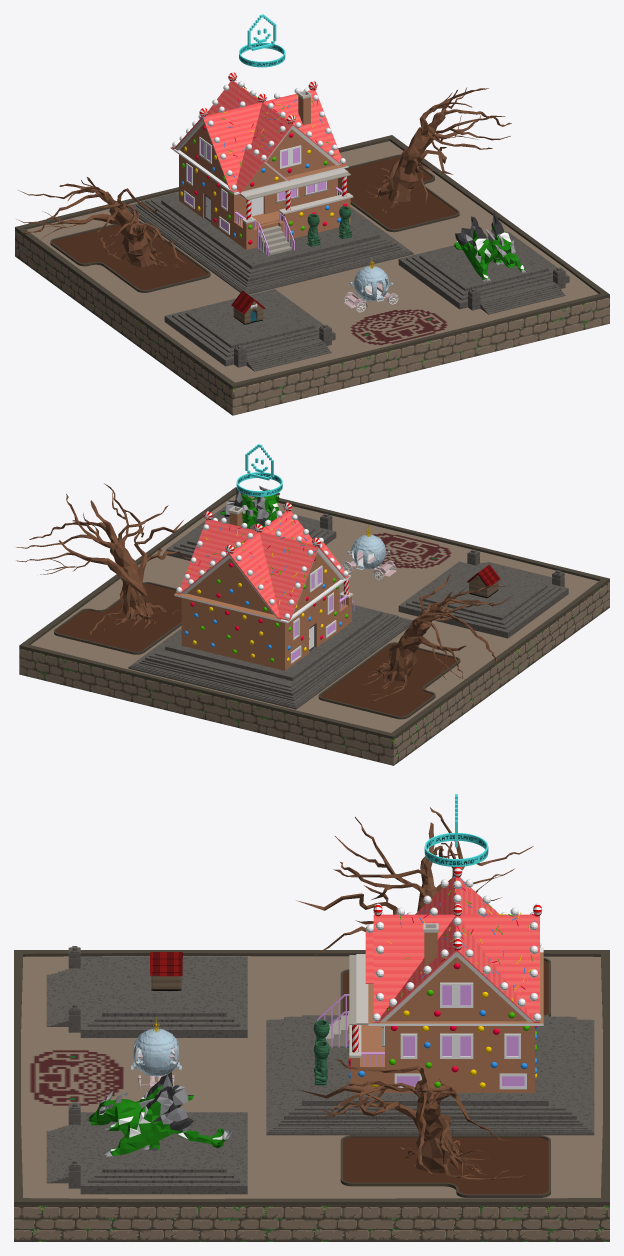
The picture shows the model from 3 angles, top to bottom: view 1: azimuth 30°, elevation 25°; view 2: azimuth 150°, elevation 25°; view 3: azimuth 270°, elevation 25°; orthographic projection. The views are drawn at different scales.
Visible parts, largest first — view 1: Cube.011, Cube.1203, ANIMAL_DRAGON, VEHICLES_FANTASY_CARRIAGE, TYPE_PREMIUM, OBJRANDOM_DOGHOUSE; view 2: Cube.011, Cube.1203, VEHICLES_FANTASY_CARRIAGE, ANIMAL_DRAGON, TYPE_PREMIUM, OBJRANDOM_DOGHOUSE; view 3: Cube.011, Cube.1203, ANIMAL_DRAGON, VEHICLES_FANTASY_CARRIAGE, OBJRANDOM_DOGHOUSE, TYPE_PREMIUM.
Boxes of the visible parts, x1=… form: Cube.011: x1=15, y1=87, x2=609, y2=415; Cube.1203: x1=170, y1=72, x2=353, y2=256; ANIMAL_DRAGON: x1=454, y1=211, x2=527, y2=281; VEHICLES_FANTASY_CARRIAGE: x1=343, y1=257, x2=398, y2=312; TYPE_PREMIUM: x1=239, y1=14, x2=285, y2=67; OBJRANDOM_DOGHOUSE: x1=231, y1=290, x2=265, y2=324; Cube.011: x1=16, y1=483, x2=609, y2=765; Cube.1203: x1=174, y1=502, x2=354, y2=670; VEHICLES_FANTASY_CARRIAGE: x1=342, y1=526, x2=396, y2=580; ANIMAL_DRAGON: x1=220, y1=486, x2=279, y2=528; TYPE_PREMIUM: x1=236, y1=444, x2=282, y2=496; OBJRANDOM_DOGHOUSE: x1=467, y1=564, x2=500, y2=598; Cube.011: x1=14, y1=807, x2=609, y2=1241; Cube.1203: x1=317, y1=867, x2=543, y2=1092; ANIMAL_DRAGON: x1=88, y1=1072, x2=232, y2=1156; VEHICLES_FANTASY_CARRIAGE: x1=131, y1=1017, x2=181, y2=1091; OBJRANDOM_DOGHOUSE: x1=150, y1=952, x2=182, y2=990; TYPE_PREMIUM: x1=424, y1=794, x2=488, y2=866.
Bounding box in the file's own units: 5099 × 2470 × 4000.
Materials: 43 (7 with a texture image).
